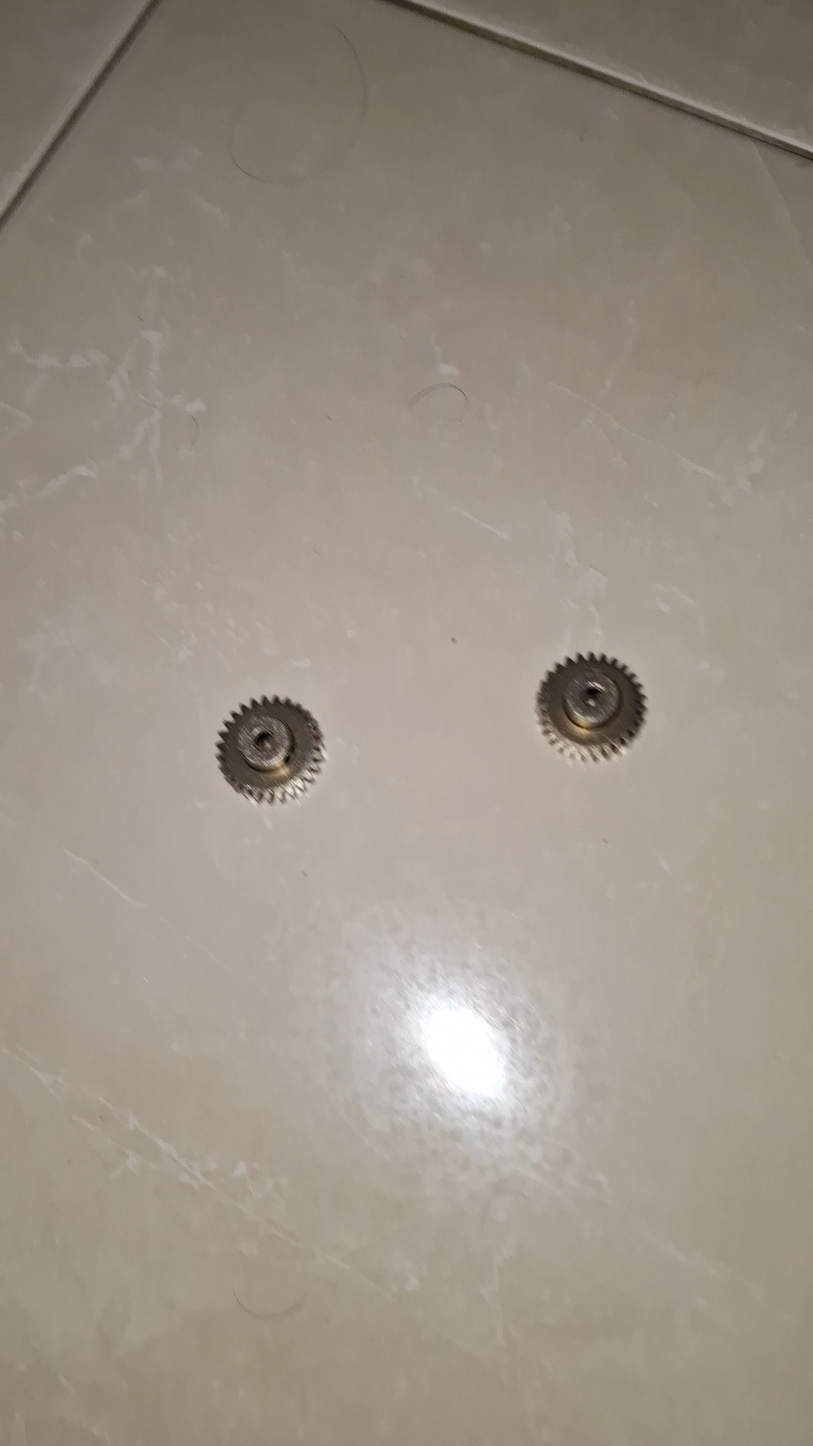spur gear: (536, 654, 646, 760), (217, 697, 324, 802)
